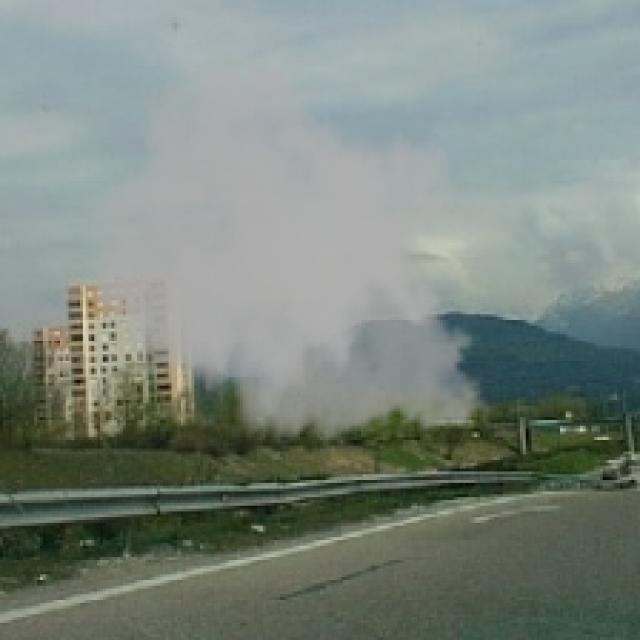smoke: (89, 43, 500, 454)
